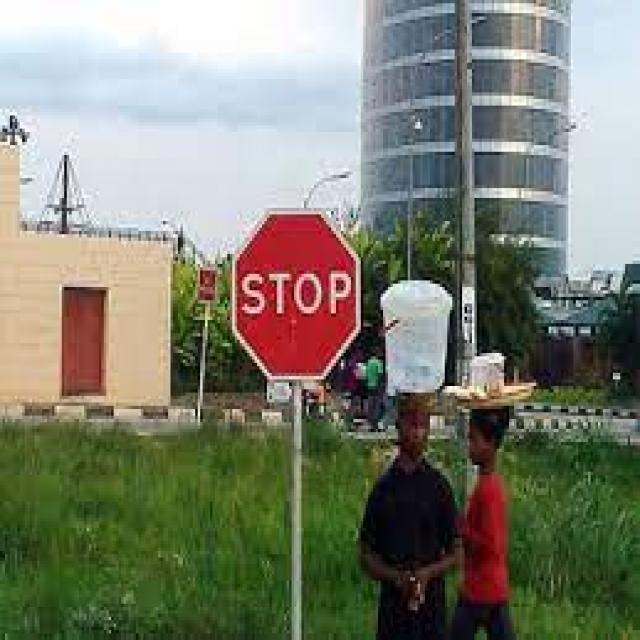stop-sign: (218, 205, 384, 380)
